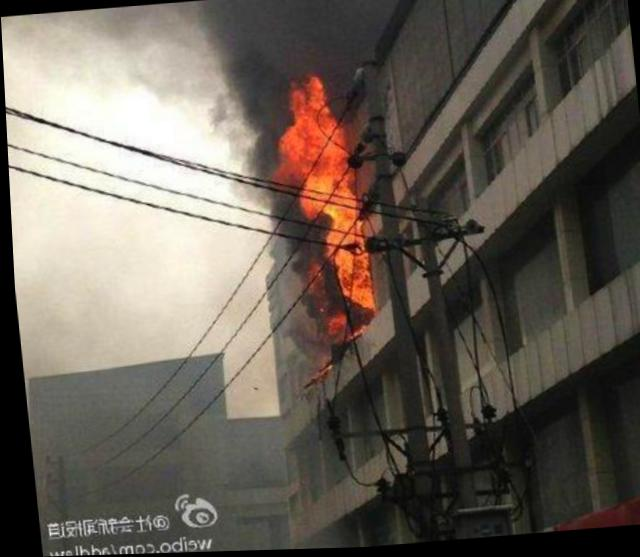fire: (278, 114, 348, 187), (329, 210, 370, 310), (285, 73, 334, 116), (302, 180, 357, 217)
